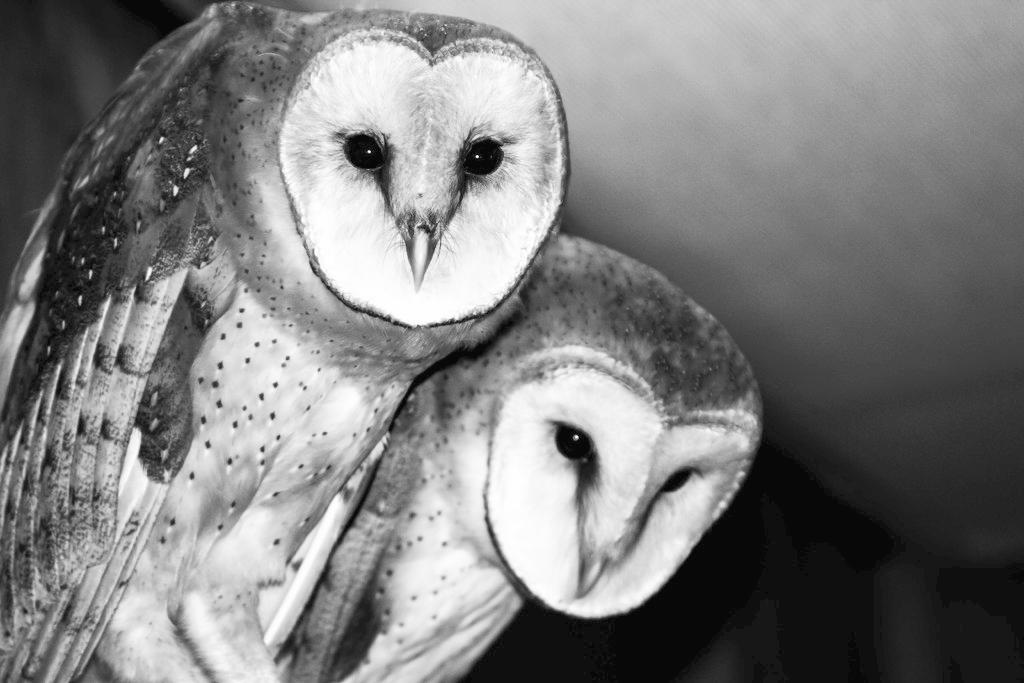Owl: (0, 0, 568, 682), (297, 236, 765, 682)
